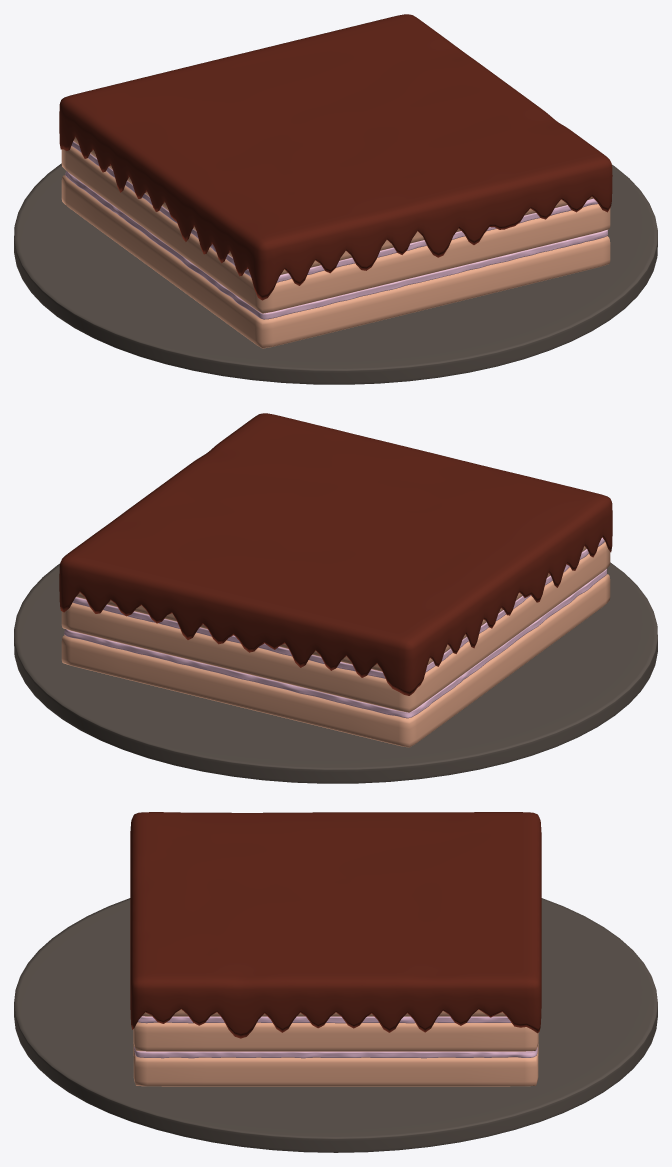
Rendered from 3LayerSquareCake.fbx.
3 renders of one model, top to bottom at view 1: azimuth 30°, elevation 25°; view 2: azimuth 150°, elevation 25°; view 3: azimuth 270°, elevation 25°, orthographic.
Visible parts, largest first — view 1: Cube.012, Cylinder.001, Cube.009, Cube.011, Cube.013, Cube.014, Cube.010; view 2: Cube.012, Cylinder.001, Cube.009, Cube.011, Cube.013, Cube.014, Cube.010; view 3: Cube.012, Cylinder.001, Cube.009, Cube.011, Cube.013, Cube.014.
Part boxes in pixels (x1=…): Cube.012: x1=59, y1=14, x2=612, y2=300; Cylinder.001: x1=14, y1=163, x2=657, y2=384; Cube.009: x1=61, y1=175, x2=610, y2=348; Cube.011: x1=61, y1=146, x2=610, y2=313; Cube.013: x1=65, y1=171, x2=607, y2=319; Cube.014: x1=71, y1=141, x2=597, y2=282; Cube.010: x1=73, y1=137, x2=593, y2=274; Cube.012: x1=59, y1=413, x2=612, y2=695; Cylinder.001: x1=14, y1=562, x2=657, y2=783; Cube.009: x1=61, y1=574, x2=610, y2=747; Cube.011: x1=61, y1=542, x2=610, y2=712; Cube.013: x1=64, y1=569, x2=606, y2=718; Cube.014: x1=72, y1=537, x2=604, y2=678; Cube.010: x1=76, y1=546, x2=586, y2=671; Cube.012: x1=130, y1=812, x2=541, y2=1038; Cylinder.001: x1=14, y1=898, x2=657, y2=1152; Cube.009: x1=133, y1=1029, x2=538, y2=1086; Cube.011: x1=133, y1=1022, x2=538, y2=1051; Cube.013: x1=134, y1=1047, x2=537, y2=1058; Cube.014: x1=138, y1=1016, x2=511, y2=1023.
Bounding box in the file's own units: 39.74 × 8.35 × 39.74.
